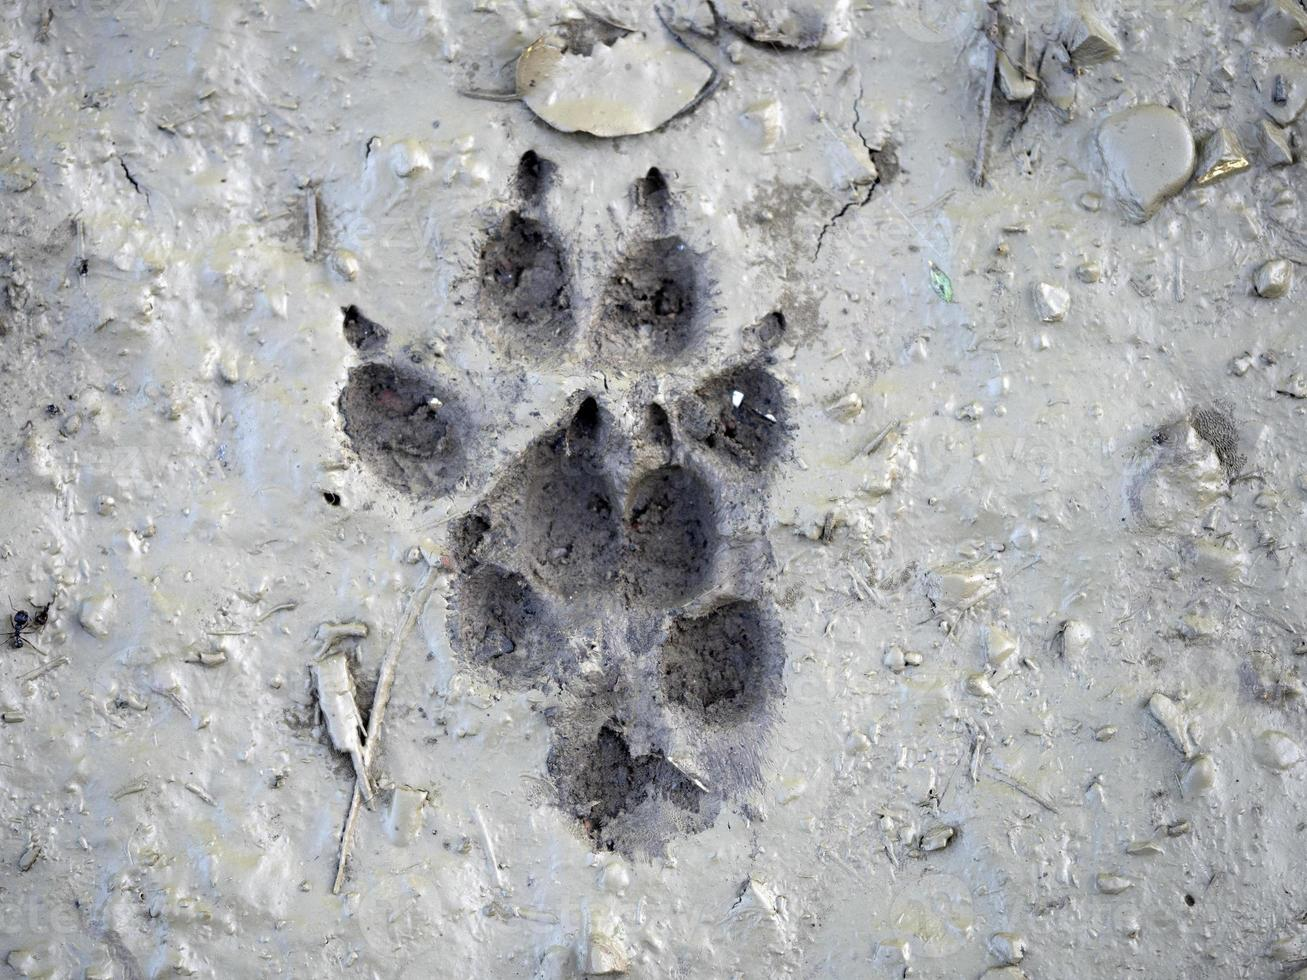coyote: (328, 142, 800, 861)
